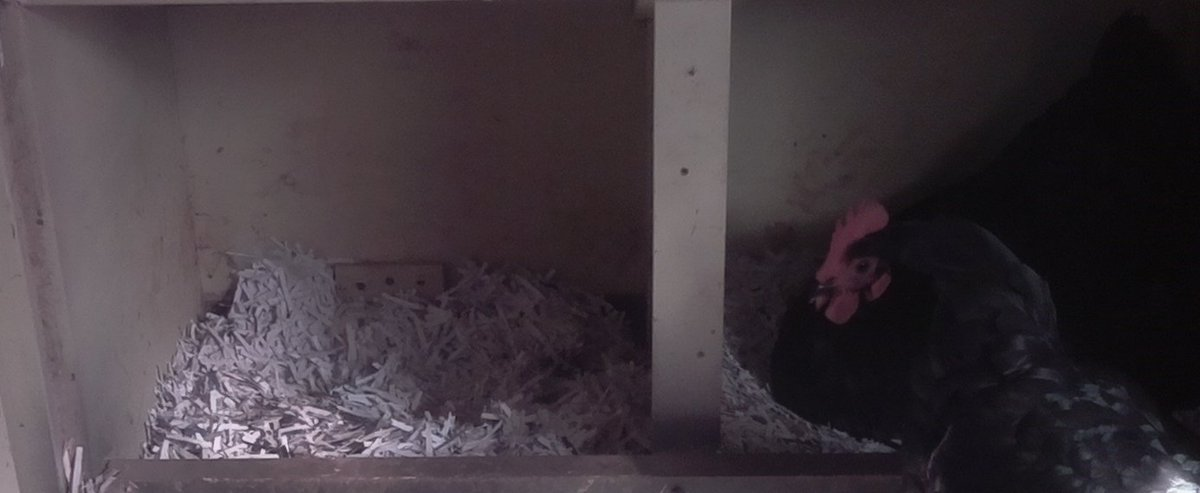hen: (759, 45, 1200, 447)
